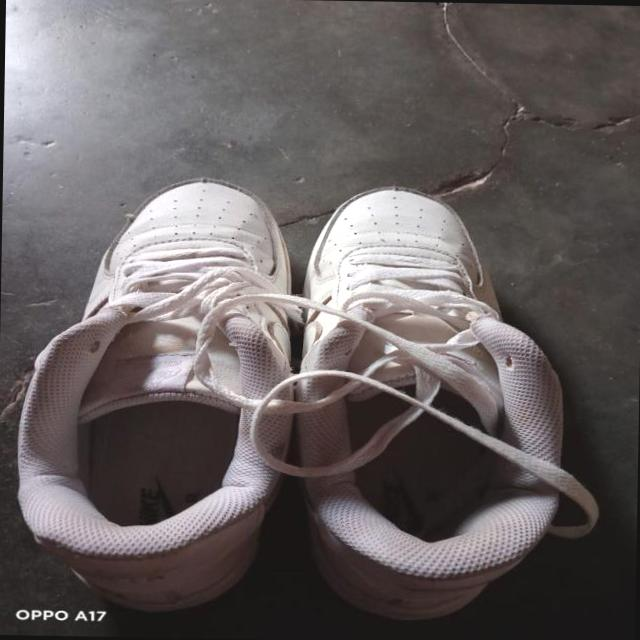nike_fake_airforce: (9, 172, 314, 615), (291, 180, 573, 620)
